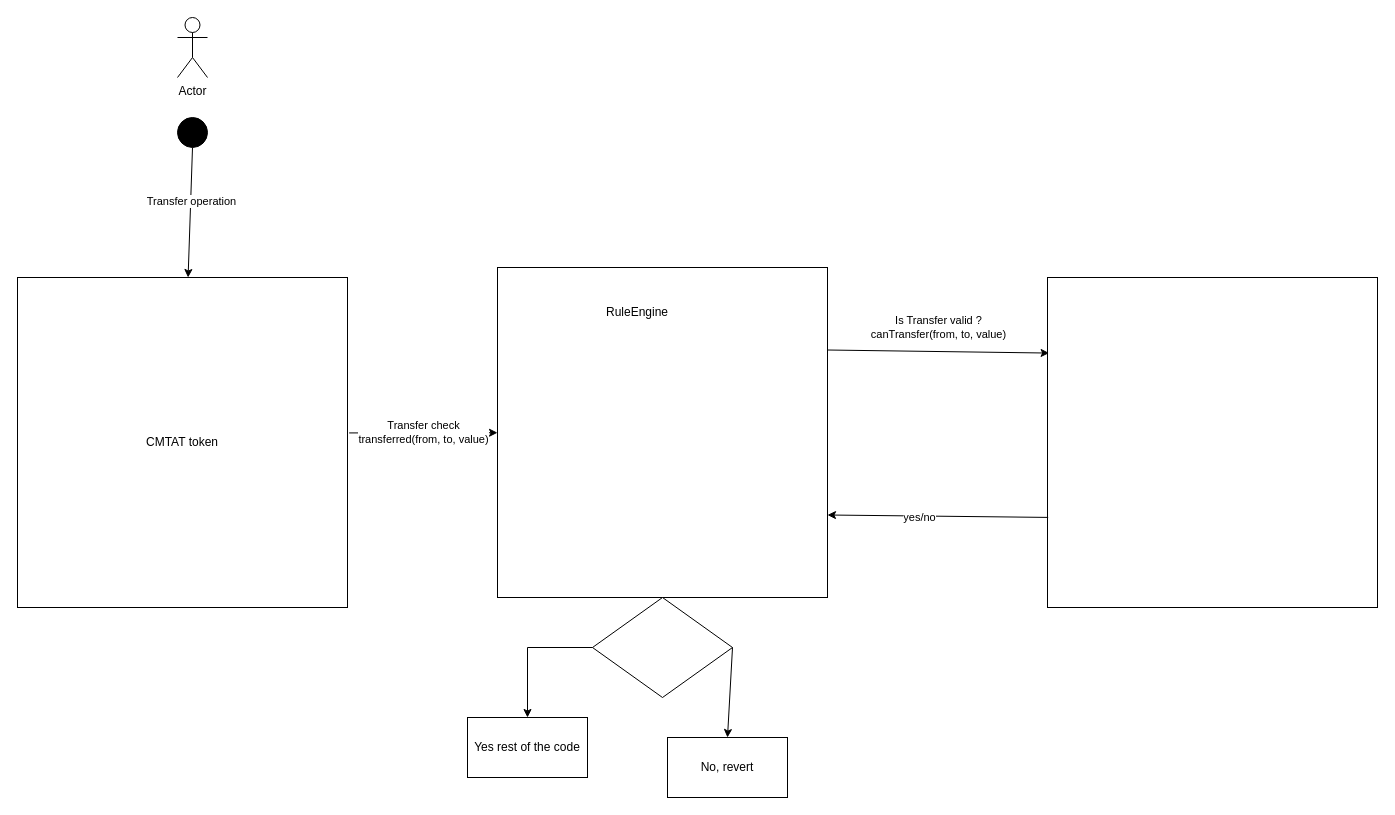
This 1395x815 diagram has some shape labels left out. Here are the shapes that lost their labels. From the top down, the centre of each, then its label:
pixel 1212 442: RuleSelf
pixel 662 647: Transfer valid ?
